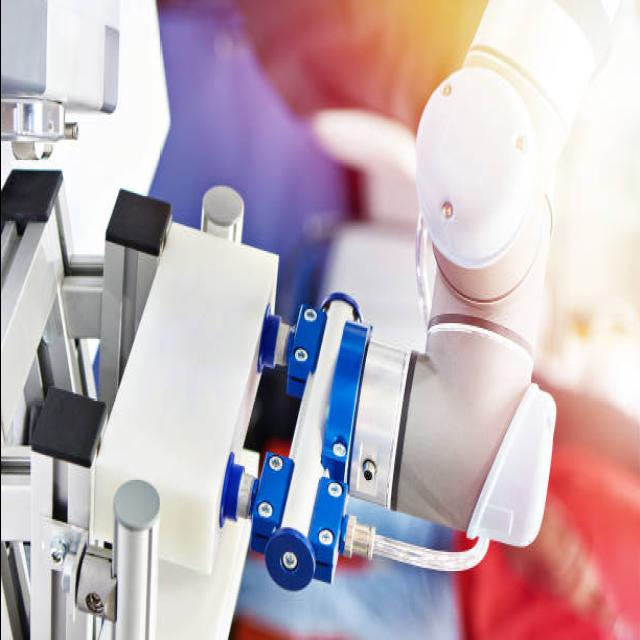Robotic-arm: (226, 1, 615, 594)
